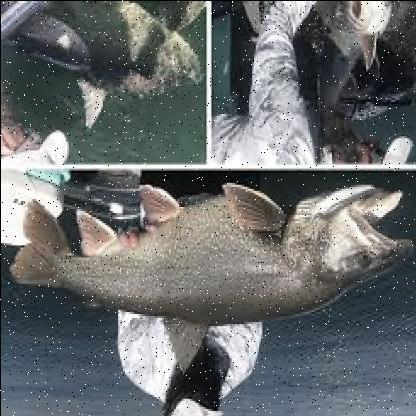fish: (7, 183, 408, 370)
